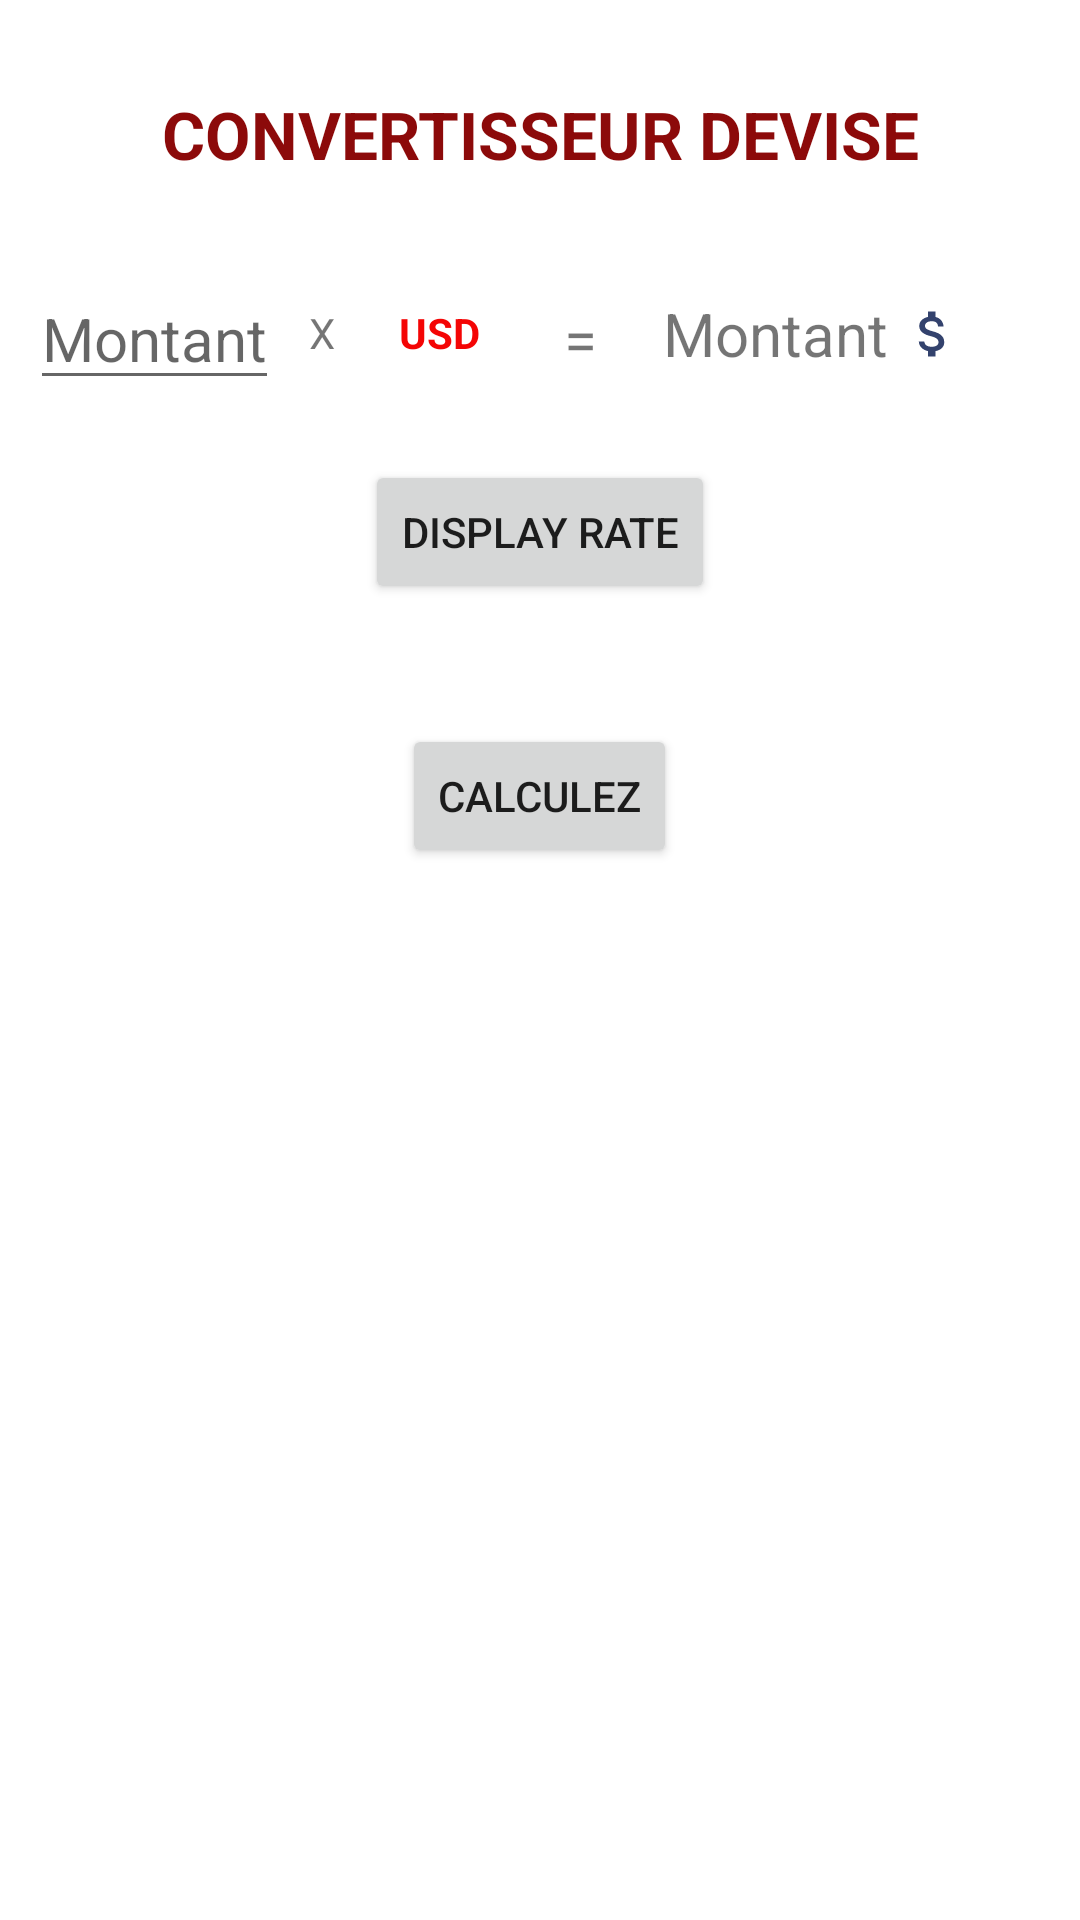

Screen size 1080w x 1920h. Icon name, then its box in pixels as rect(x1, y1, x2, y2):
money: rect(918, 311, 945, 357)
